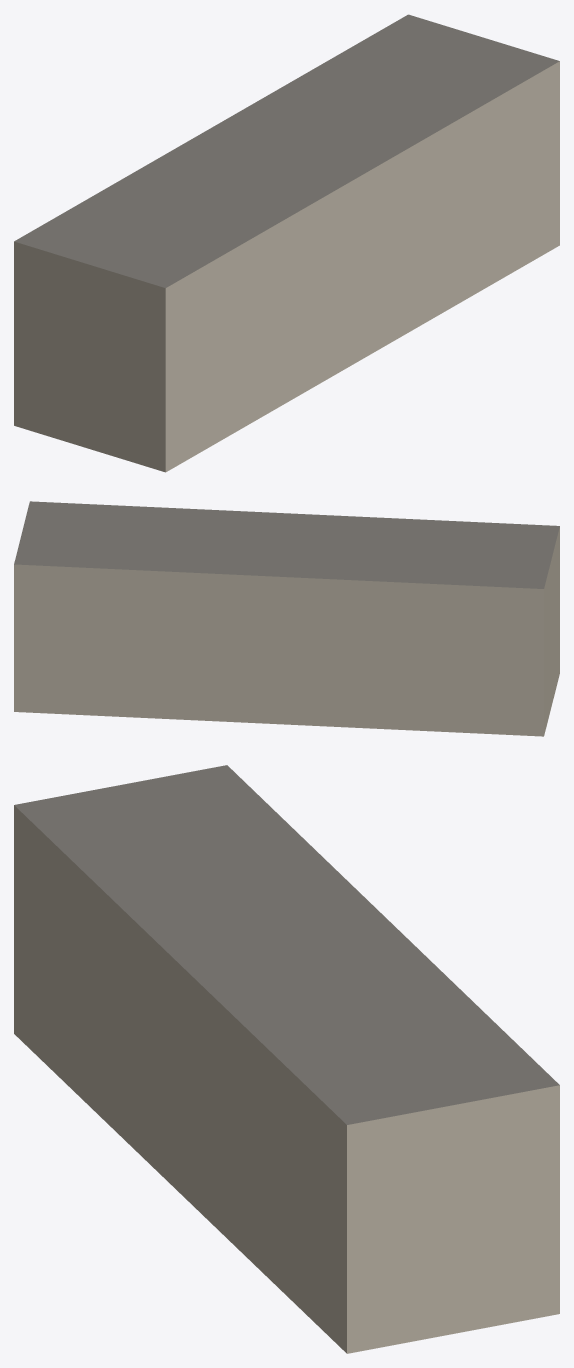
3 views of the same model, one above another, from view 1: azimuth 30°, elevation 25°; view 2: azimuth 150°, elevation 25°; view 3: azimuth 270°, elevation 25° (orthographic). The views are drawn at different scales.
Parts seen in each view (by area): view 1: HP-w1286955169; view 2: HP-w1286955169; view 3: HP-w1286955169.
Boxes of the visible parts, bbox=[...] form: HP-w1286955169: bbox=[14, 14, 559, 472]; HP-w1286955169: bbox=[14, 501, 559, 736]; HP-w1286955169: bbox=[14, 765, 559, 1353].
Bounding box in the file's own units: 60.74 × 18 × 38.93.
